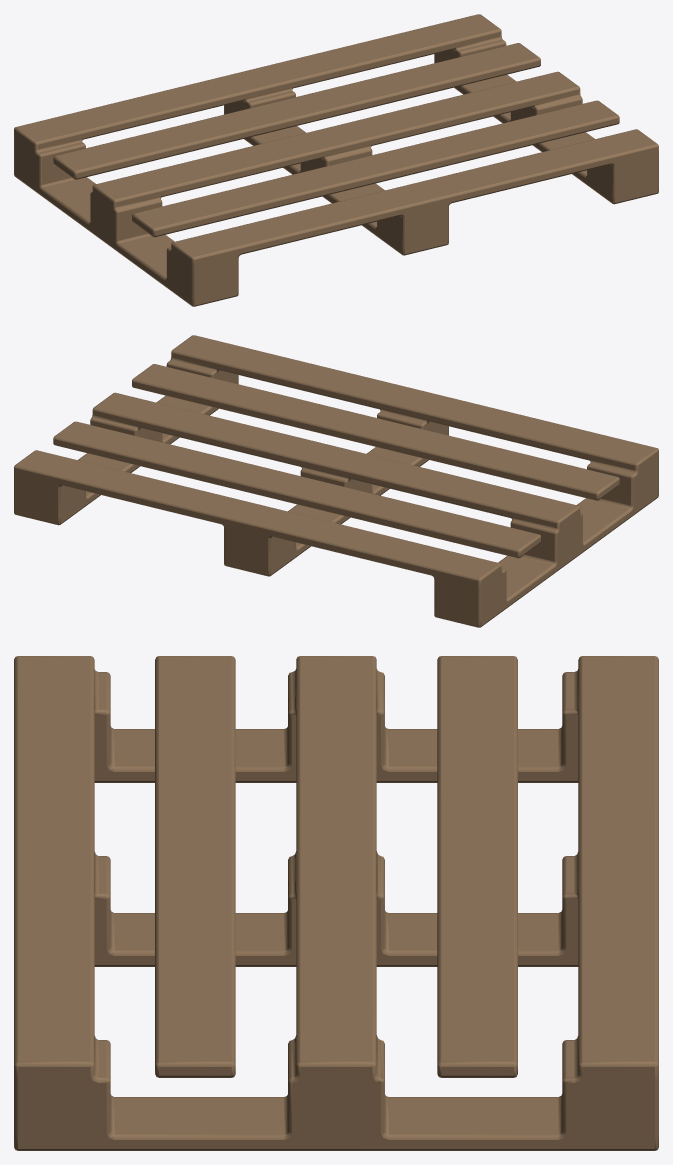
The model's file is SM_Pallet.glb.
The picture shows the model from 3 angles, top to bottom: view 1: azimuth 30°, elevation 25°; view 2: azimuth 150°, elevation 25°; view 3: azimuth 270°, elevation 25°; orthographic projection. The views are drawn at different scales.
Parts seen in each view (by area): view 1: SM_Pallet; view 2: SM_Pallet; view 3: SM_Pallet.
Part boxes in pixels (x1=…): SM_Pallet: x1=14, y1=14, x2=658, y2=306; SM_Pallet: x1=14, y1=335, x2=658, y2=627; SM_Pallet: x1=14, y1=656, x2=658, y2=1150.
Bounding box in the file's own units: 1.2 × 0.122 × 0.8.
